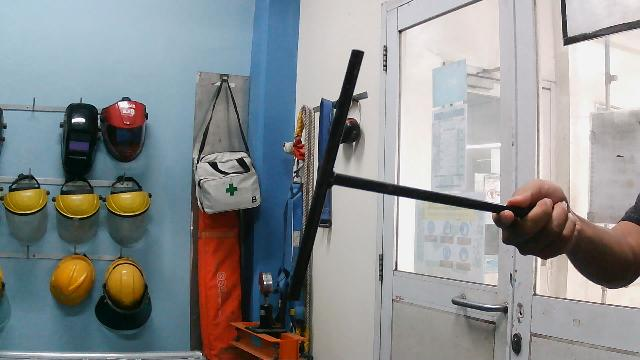kunci_t: (284, 41, 556, 306)
